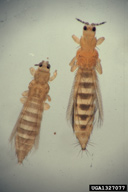Thrips: (68, 12, 110, 158), (11, 53, 59, 166)
